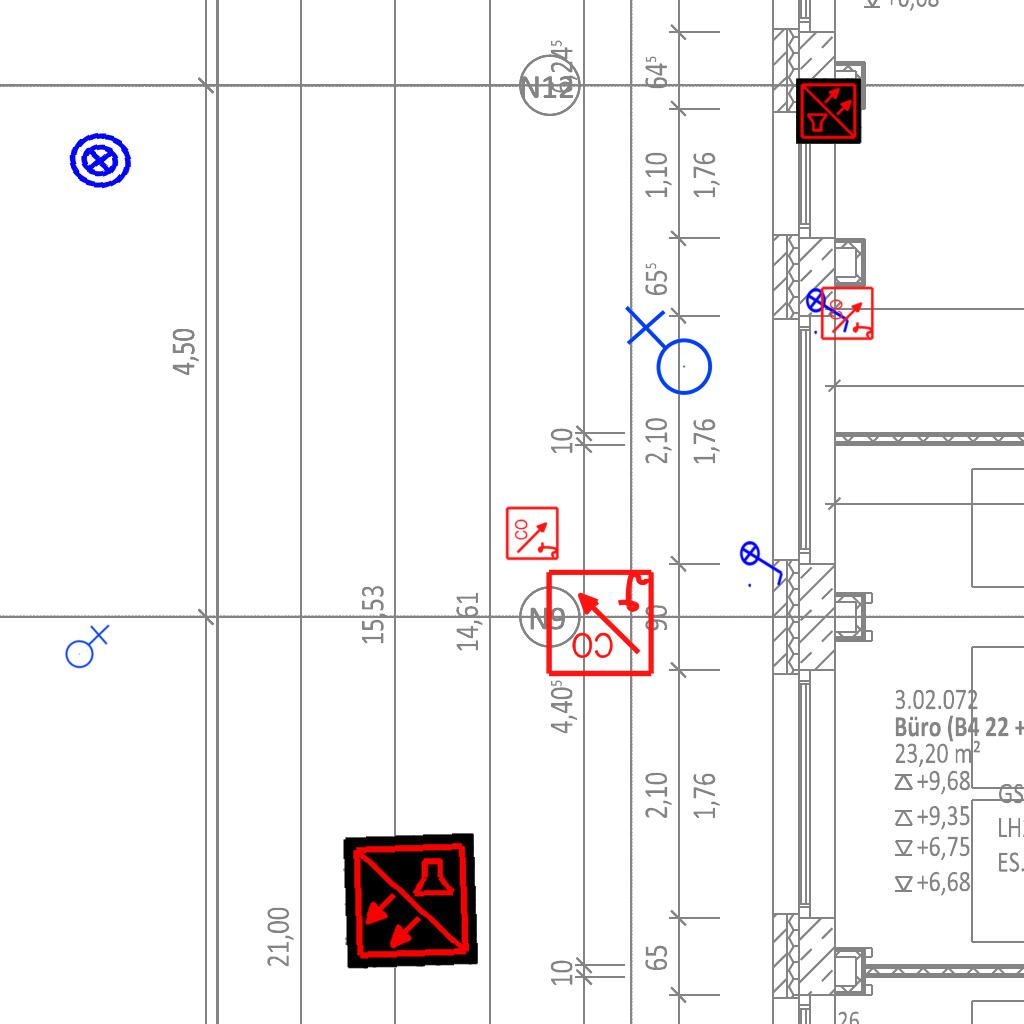Ausschalter_beleuchtet: (805, 281, 853, 337), (739, 534, 787, 590)
Elektroanschluss_allgemein_230V_Geraeteanschlussdose_230V: (620, 305, 714, 404), (61, 622, 110, 669)
OKW_Multisensormelder_(Kombination_optischer_Rauch-Kahlenmonoxid_Waerme-Melder): (341, 832, 479, 970), (796, 78, 862, 144)
ROA_Rauchmelder_optisch_mit_Signalgeber_(Sockelsirene): (543, 565, 656, 678), (505, 505, 561, 561), (820, 285, 876, 341)
Taster_beleuchtet: (63, 124, 137, 198)
